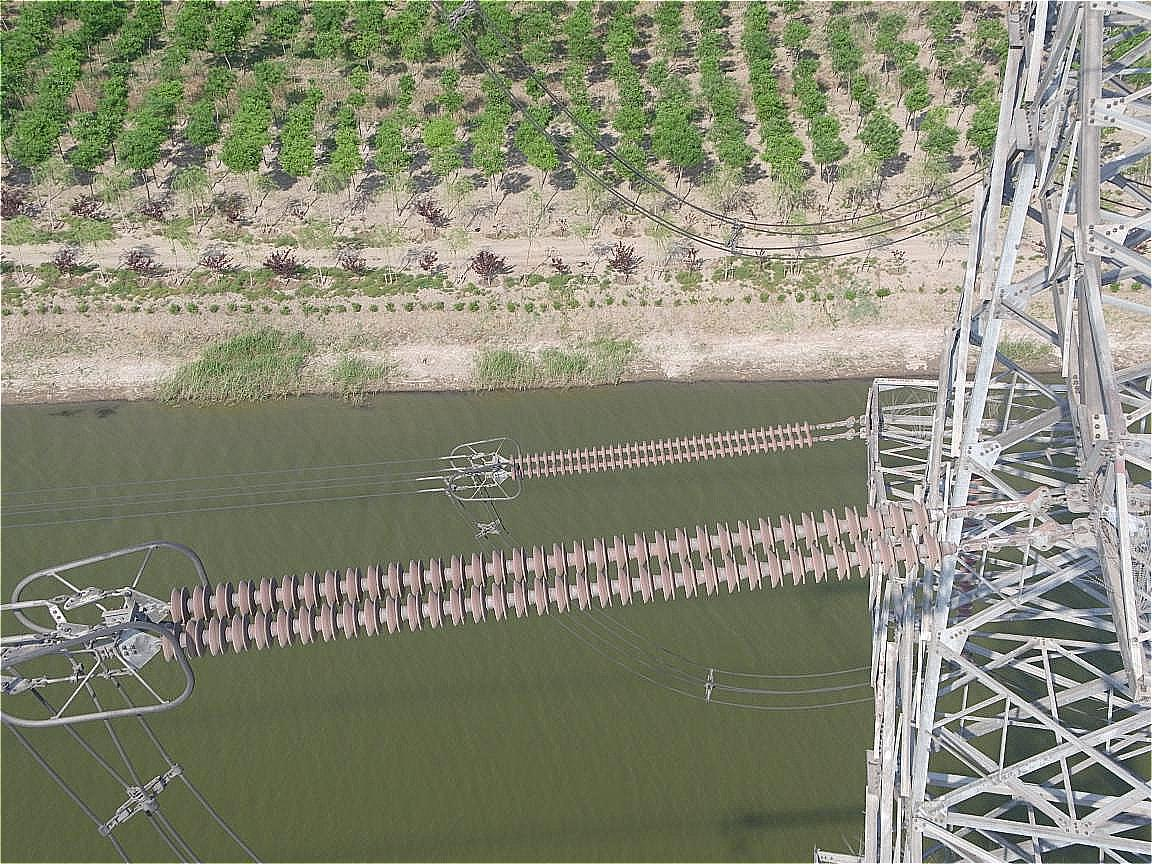insultor1: (494, 416, 825, 485)
insultor2: (140, 493, 961, 687)
